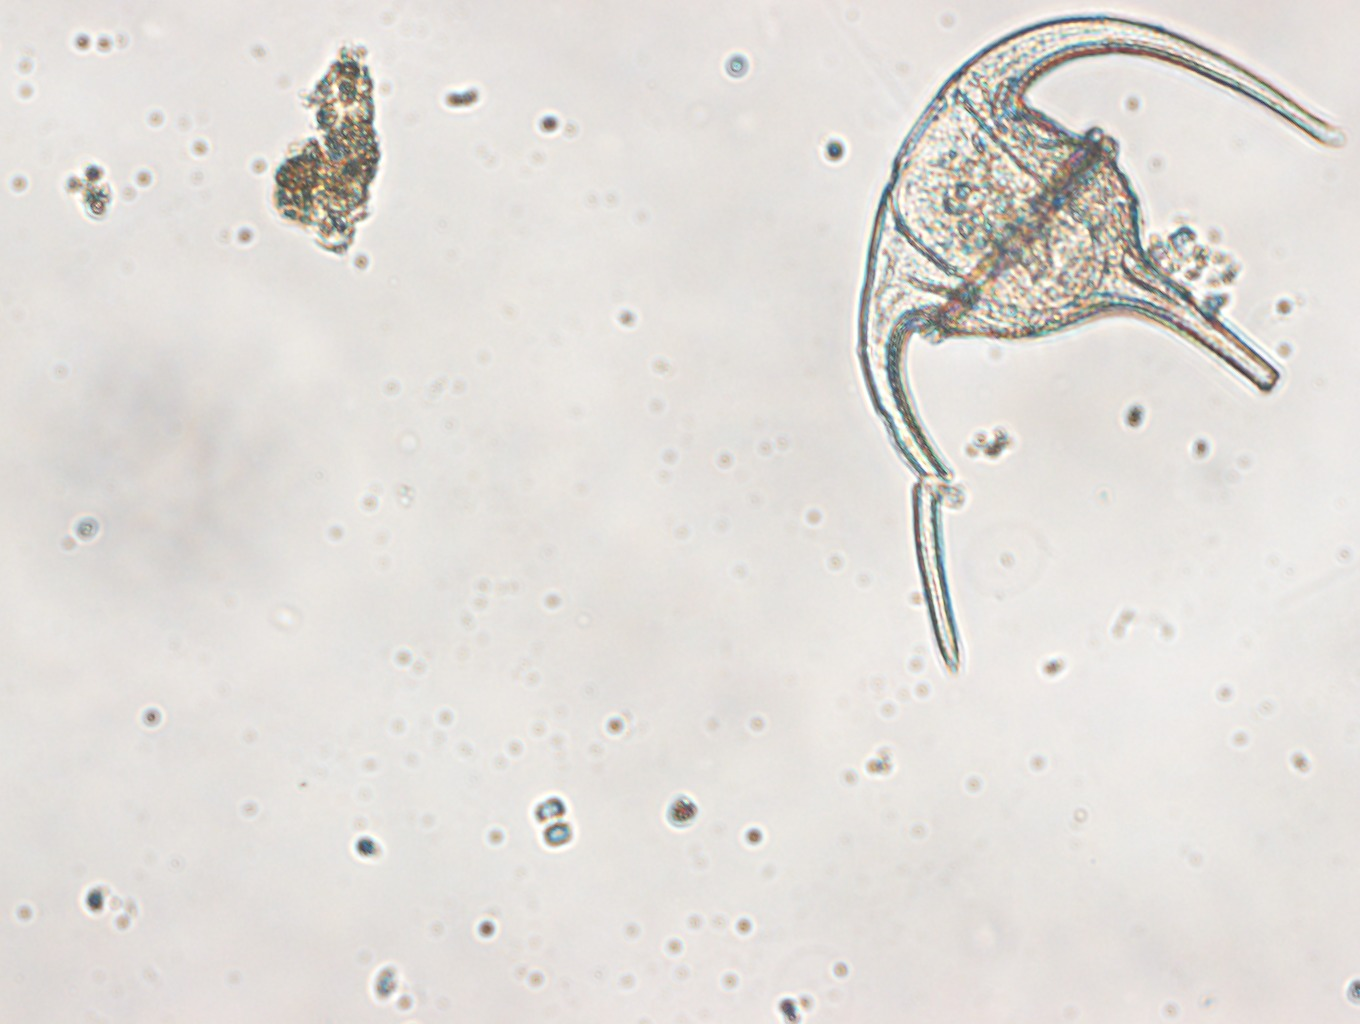ceratium tripos: (851, 13, 1344, 673)
